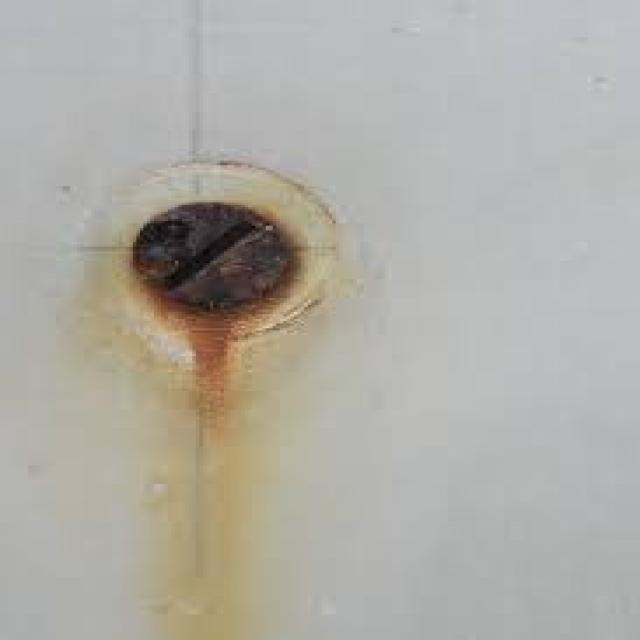Corrosion: (131, 201, 297, 334)
